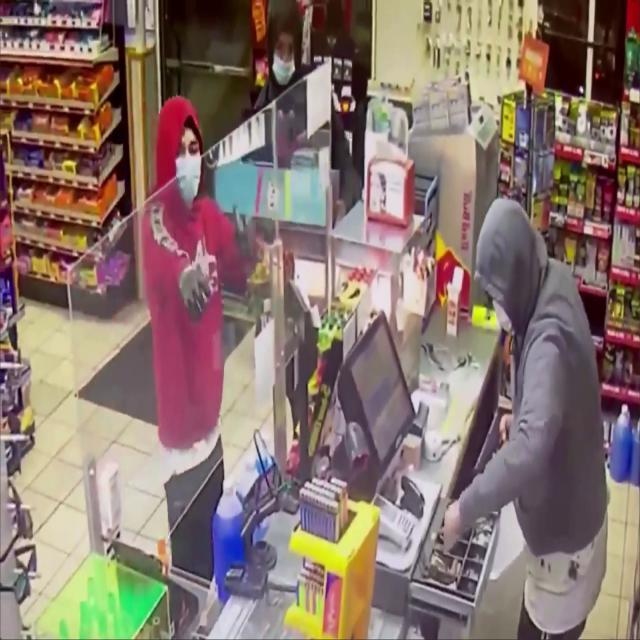Gun: (470, 409, 512, 482)
